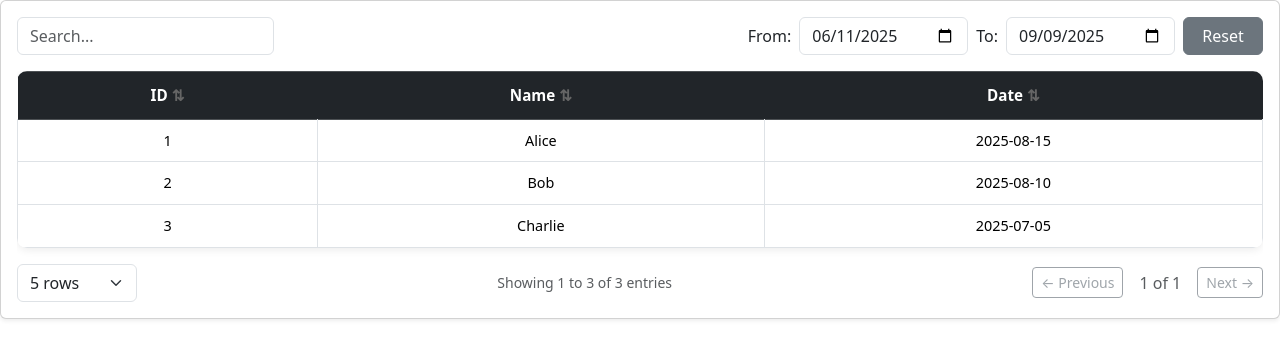
Test case: DataTable › date filter applies automatically without search button
Set date range that should filter to only Bob's record (2025-08-10)
In the date field labelled "From:": (884, 36) [799, 17, 968, 55], type "2025-08-09"
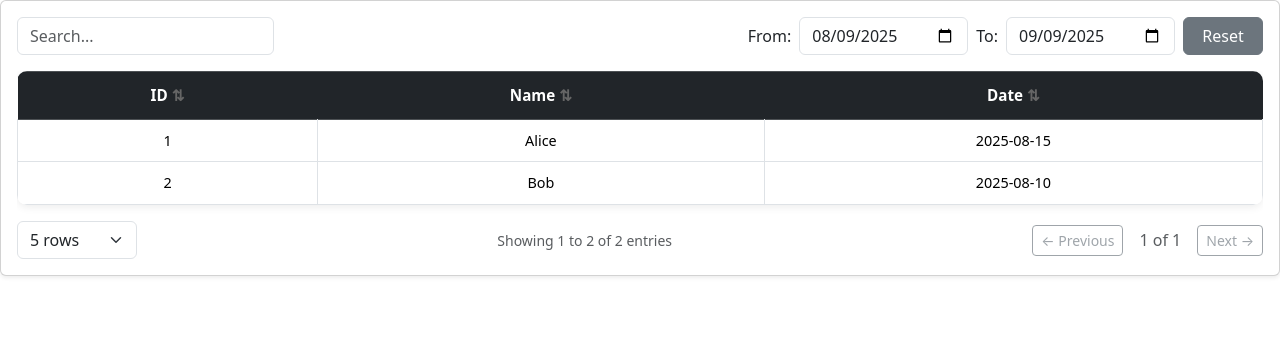
In the date field labelled "To:": (1090, 36) [1006, 17, 1175, 55], type "2025-08-11"
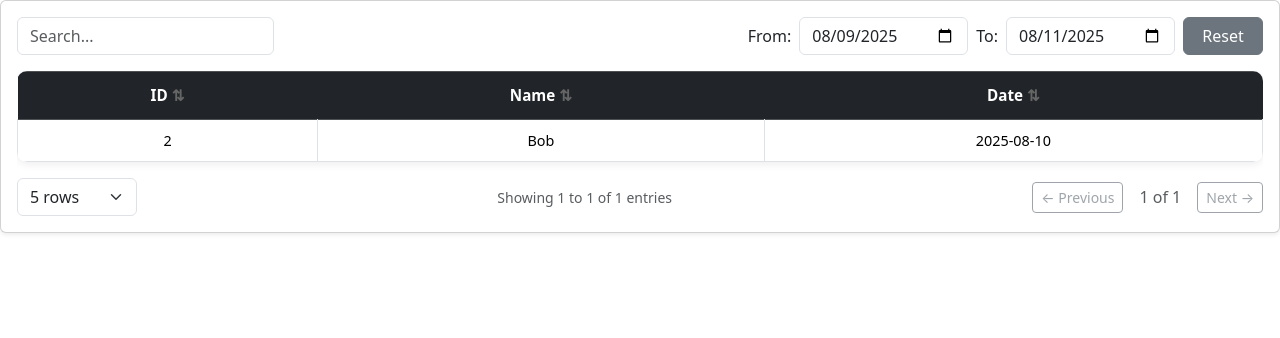
Check: the text "Bob" is shown, box [318, 119, 764, 162]
Check: the text "Alice" is gone
